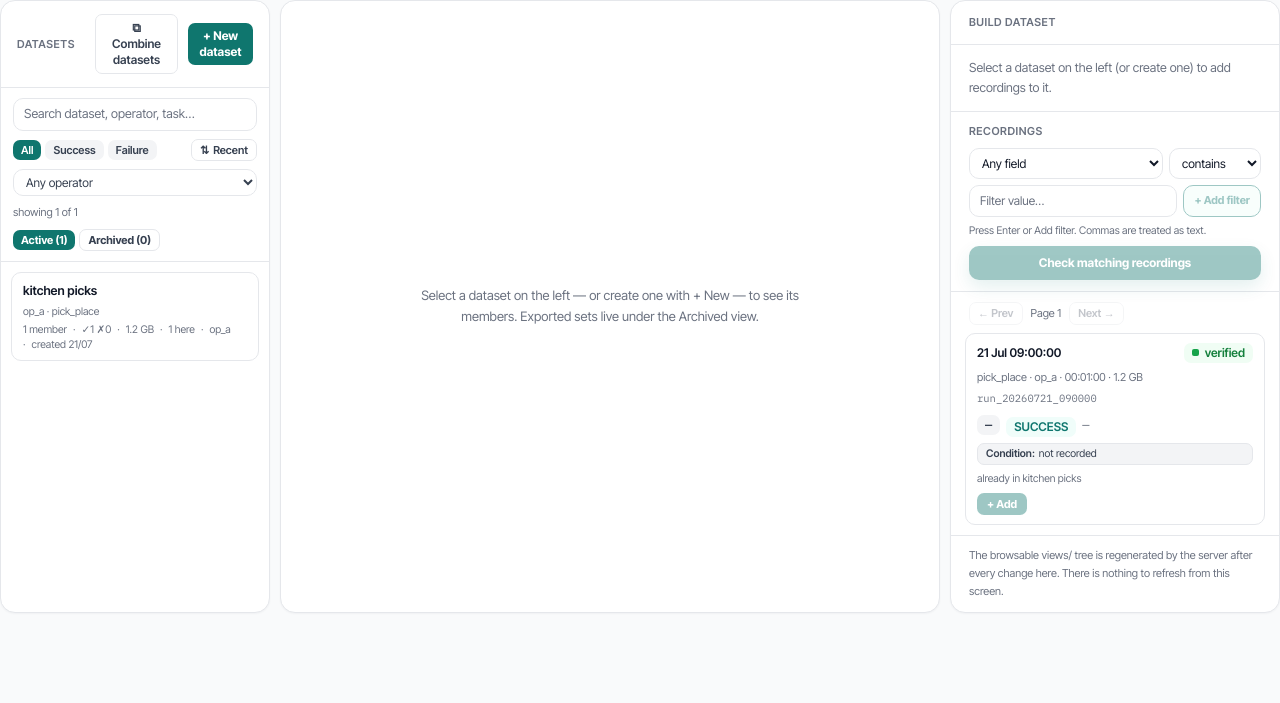
Scenario: E-19b: Remove after the whole dataset went — the two sentences do not fuse
The image size is (1280, 703).
Click the button that starts with "kitchen picks": (135, 317) [11, 272, 259, 361]
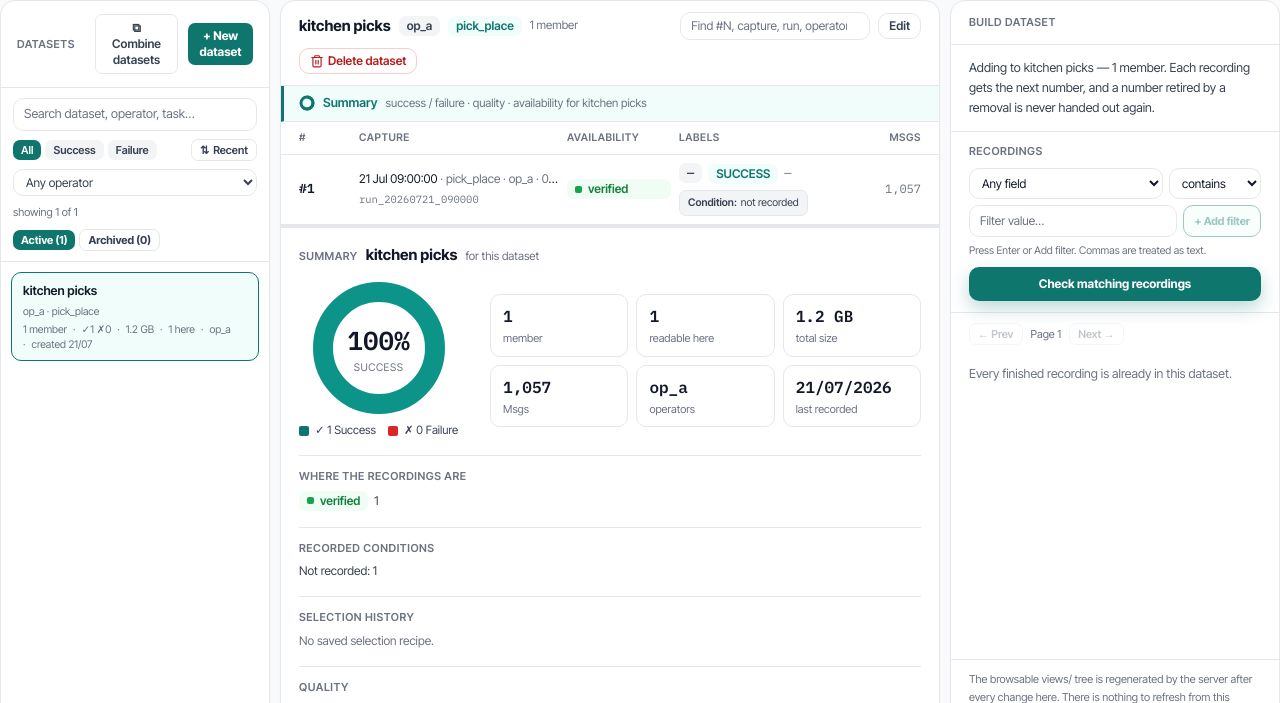
Click the button with aria-label "cap-a": (610, 189) [281, 154, 939, 224]
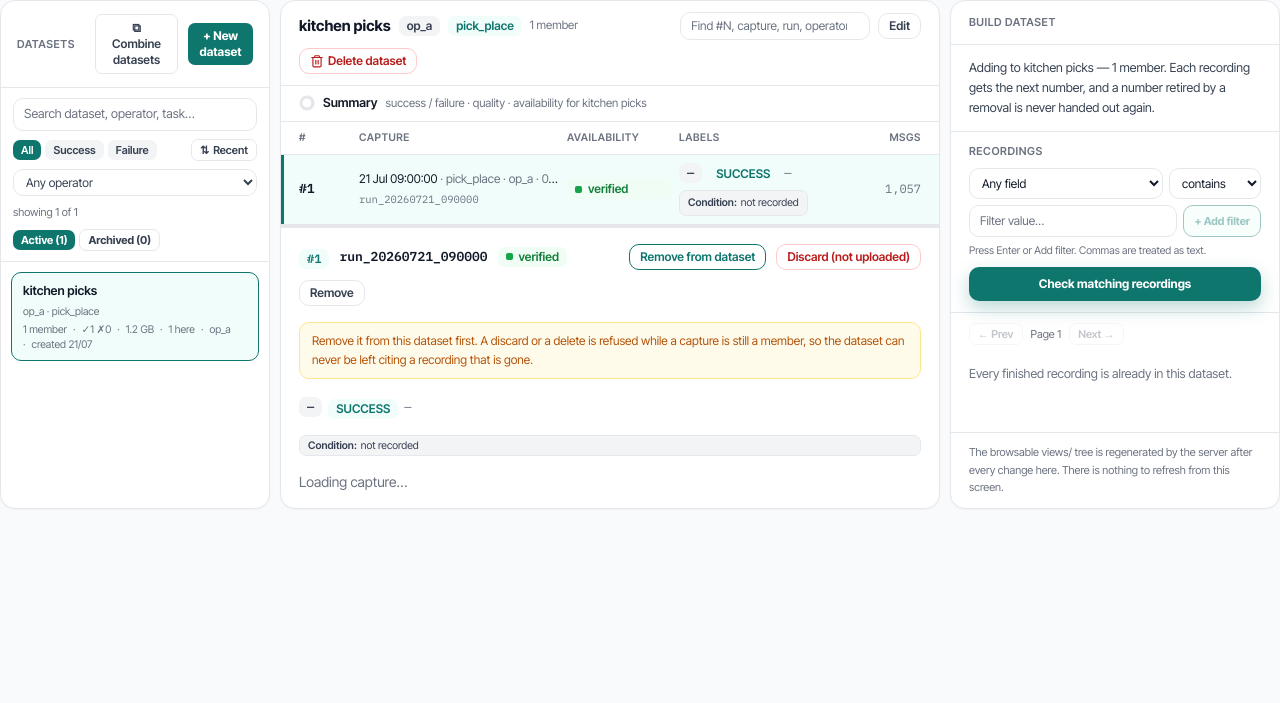
Now the button with test id "remove-member-btn" is shown
Click the button with test id "remove-member-btn": (698, 256) [629, 244, 766, 270]
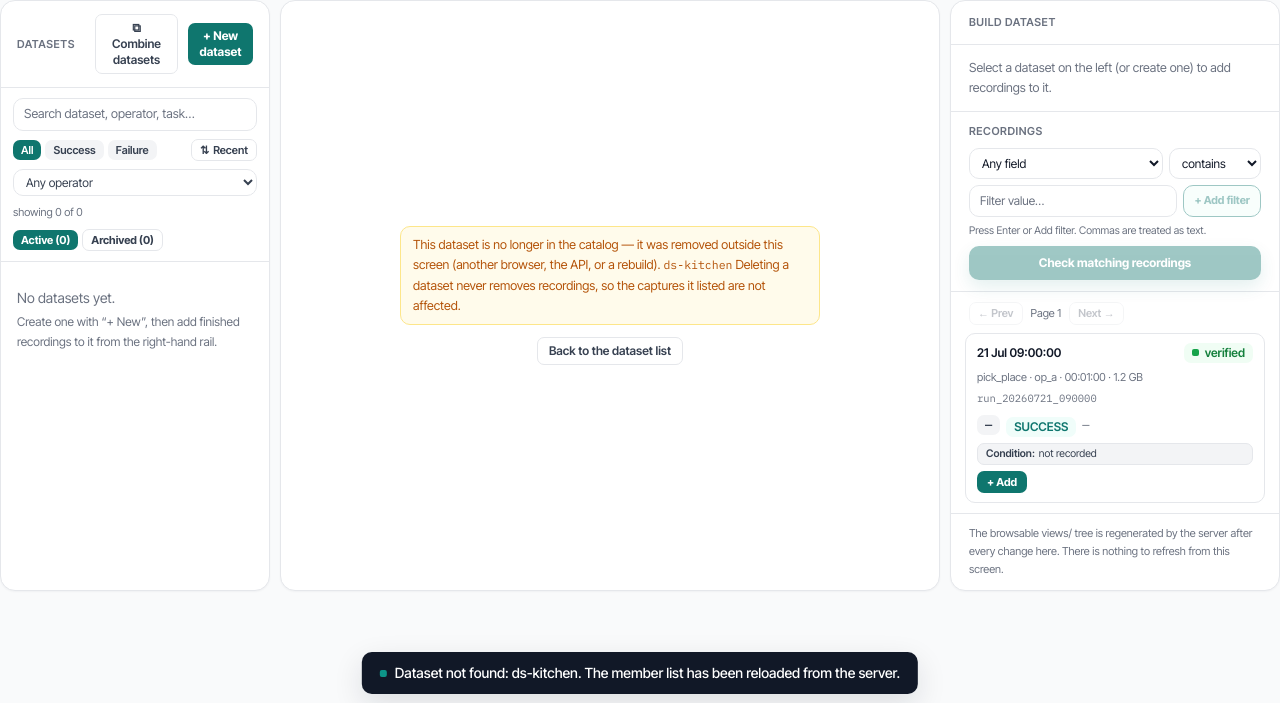
Now the element with test id "toast" shows "Dataset not found: ds-kitchen. The member list has been reloaded from the server.", box [395, 664, 900, 681]
